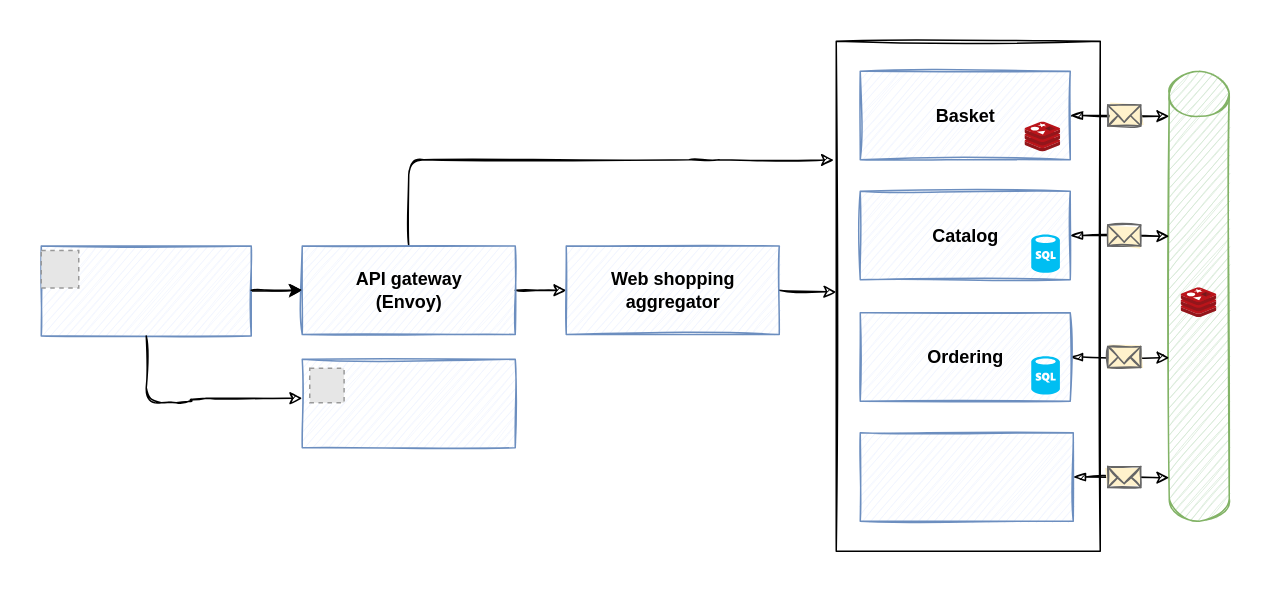
The diagram is 1281 pixels wide and 591 high, and some of its shapes have lost their labels. Grey dashed boxes stand in for pictures. The box of each missing label's shape, as (x1, y1, x2, y2) in pixels:
Identity service: (301, 358, 515, 448)
Payment: (859, 431, 1073, 521)
SPA Frontend: (40, 244, 251, 336)
